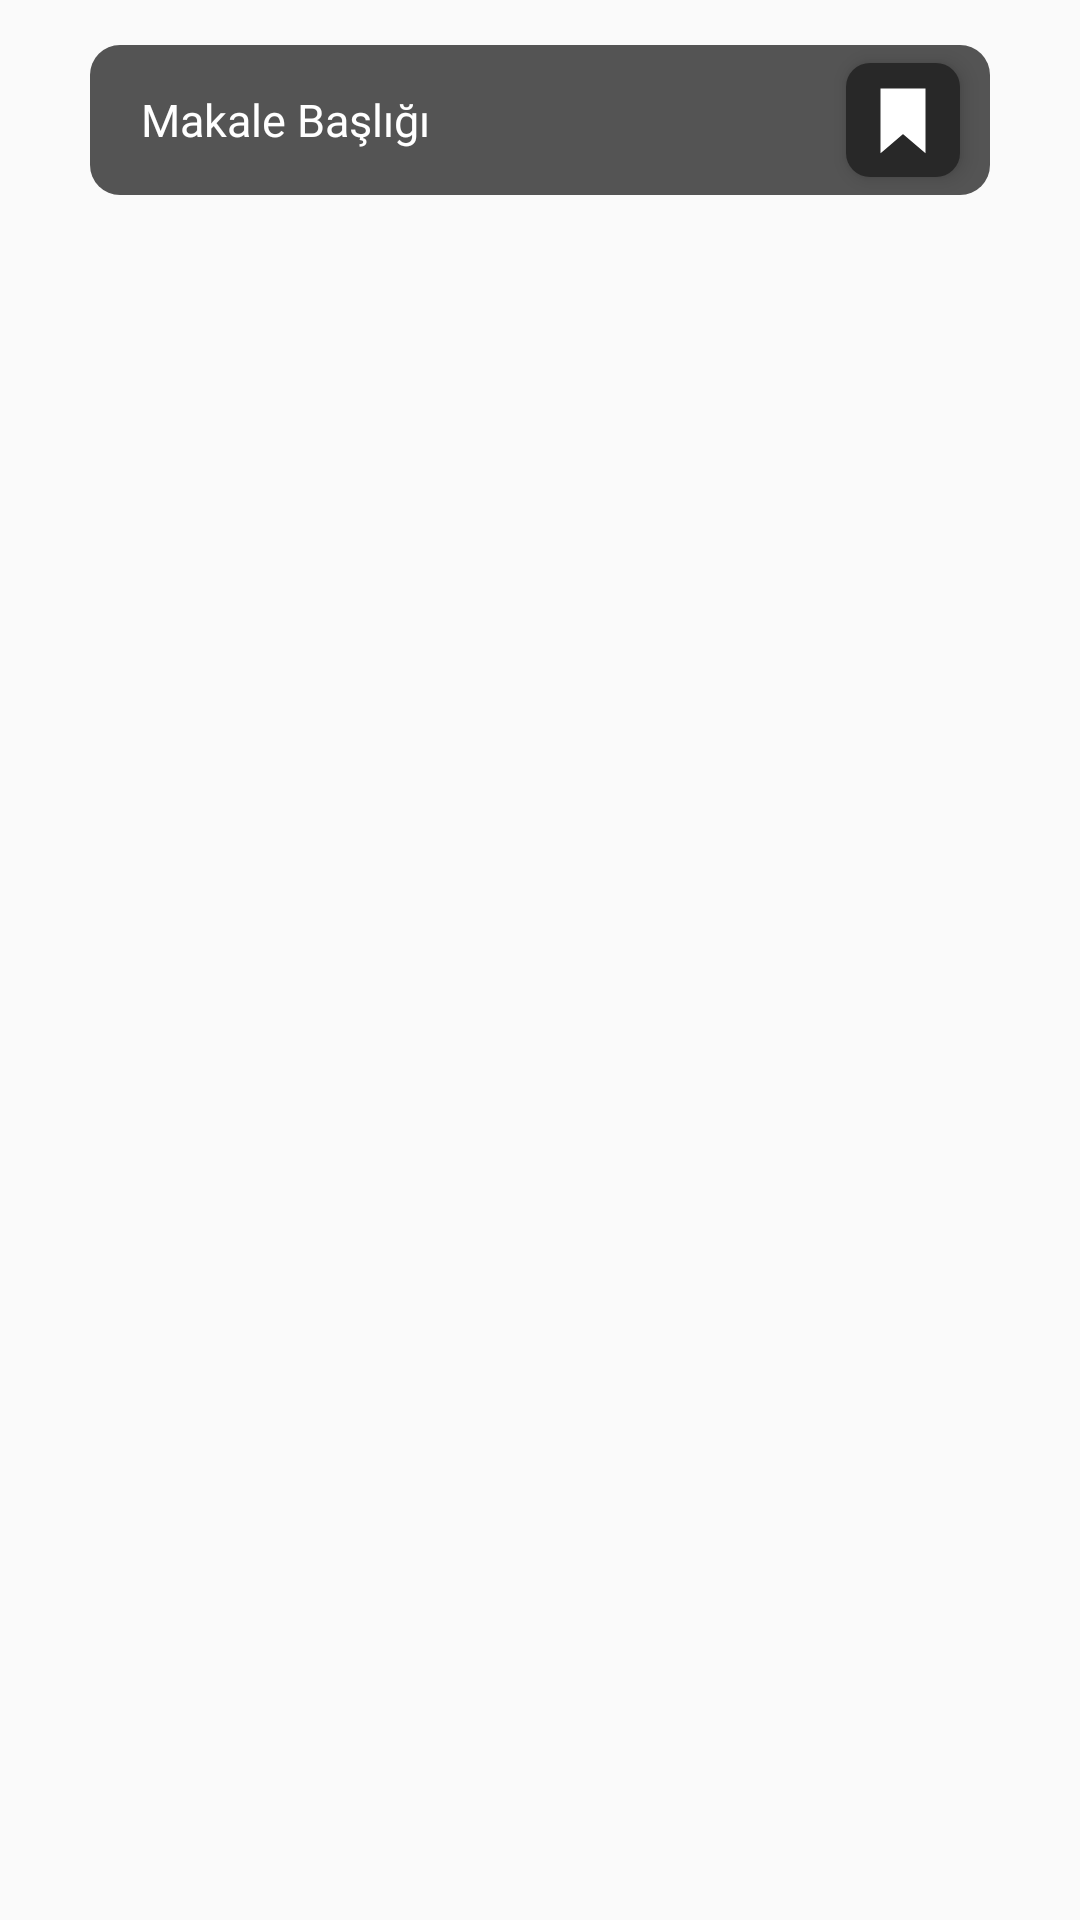

Icon bounding boxes for this 1080px x 1920px phone screenshot, format (x1, y1, x2, y2):
saved: (846, 63, 960, 177)
